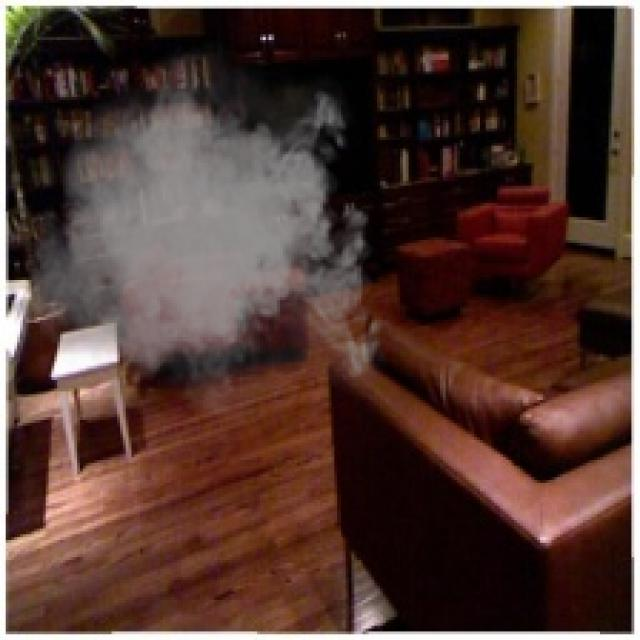smoke: (23, 32, 391, 437)
